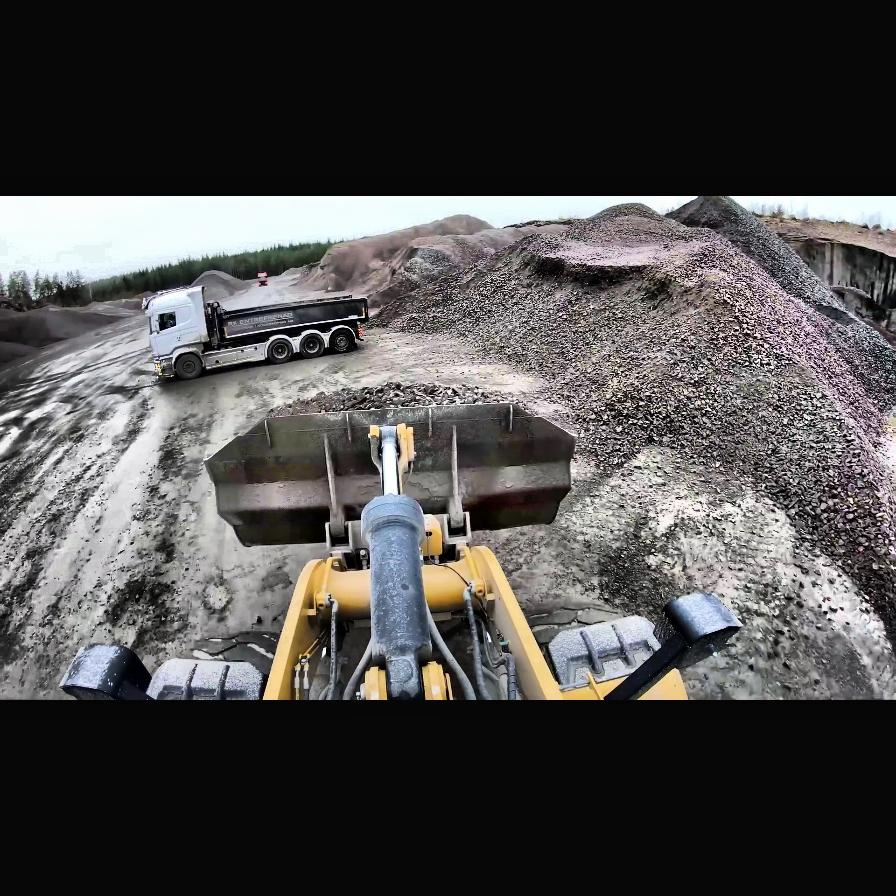anchor: (368, 422, 416, 496)
pile of gravel: (464, 198, 896, 670), (296, 214, 500, 294), (522, 207, 702, 290), (1, 302, 135, 358), (186, 270, 250, 298)
